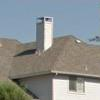Chimney: (28, 9, 58, 60)
